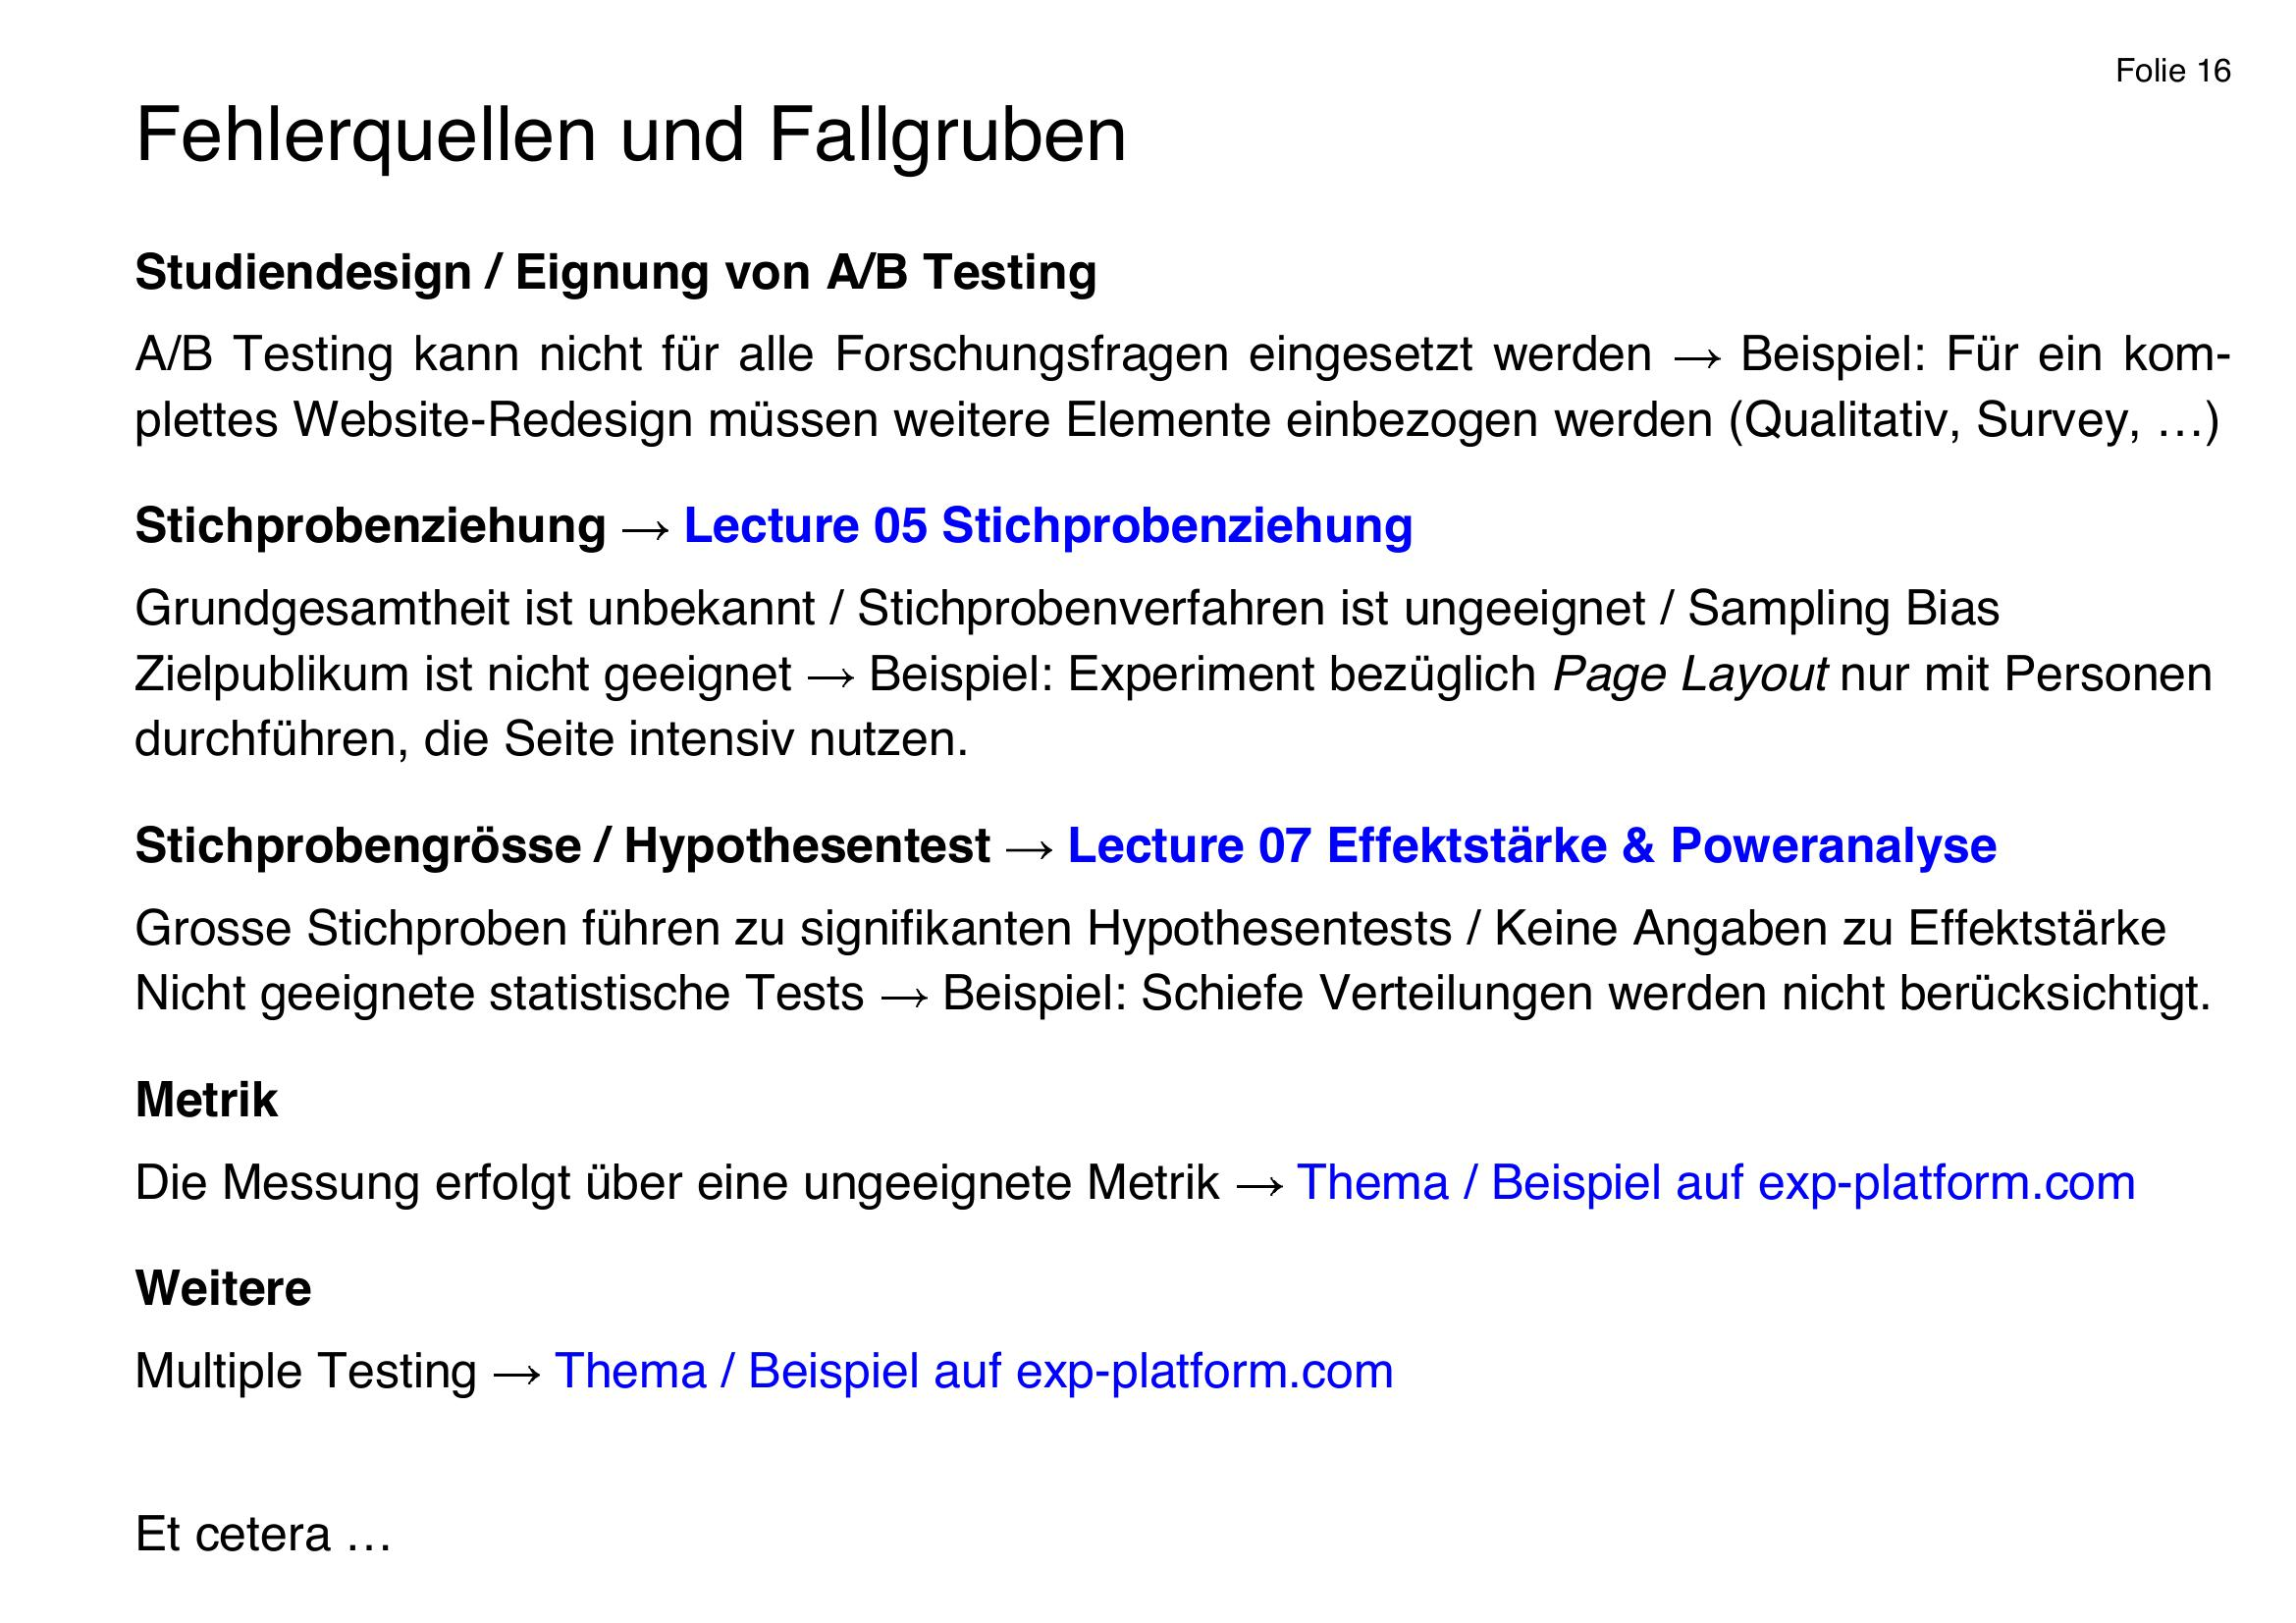Title: (121, 90, 1136, 184)
